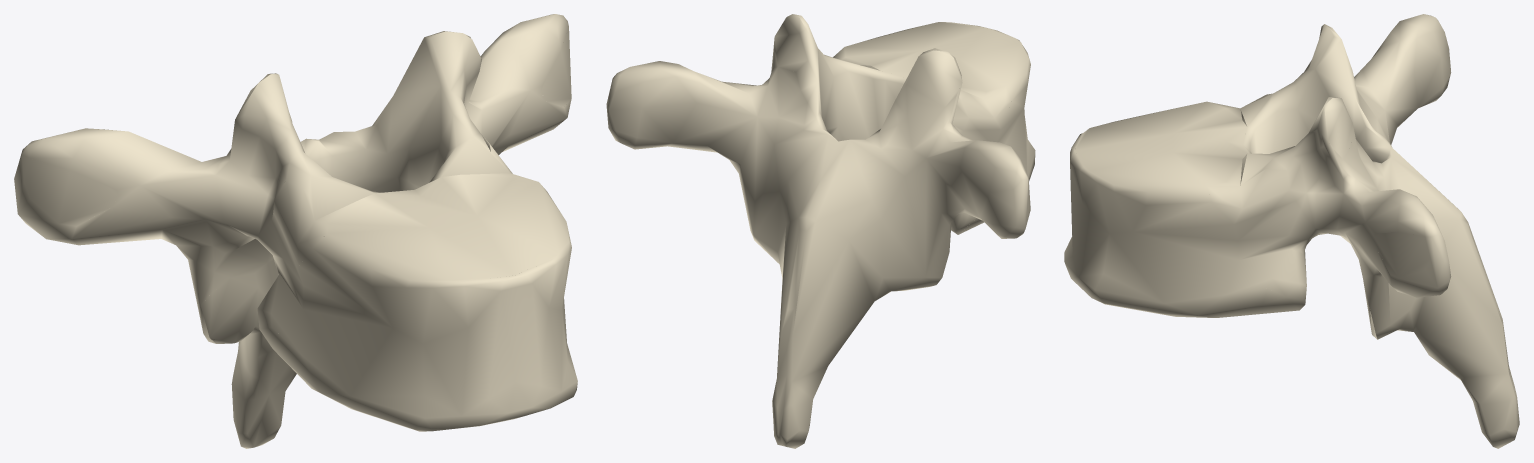
Rendered from esqueleto-vertebra-t6.glb.
3 renders of one model, left to right at view 1: azimuth 30°, elevation 25°; view 2: azimuth 150°, elevation 25°; view 3: azimuth 270°, elevation 25°, orthographic. The views are drawn at different scales.
Visible parts, largest first — view 1: Vertebra T6; view 2: Vertebra T6; view 3: Vertebra T6.
Part boxes in pixels (box(x1,y1,x2,y2)): Vertebra T6: box(14, 14, 577, 448); Vertebra T6: box(606, 14, 1035, 448); Vertebra T6: box(1064, 14, 1519, 448).
Size of the model in its own units: 0.0757 by 0.0621 by 0.0668.
